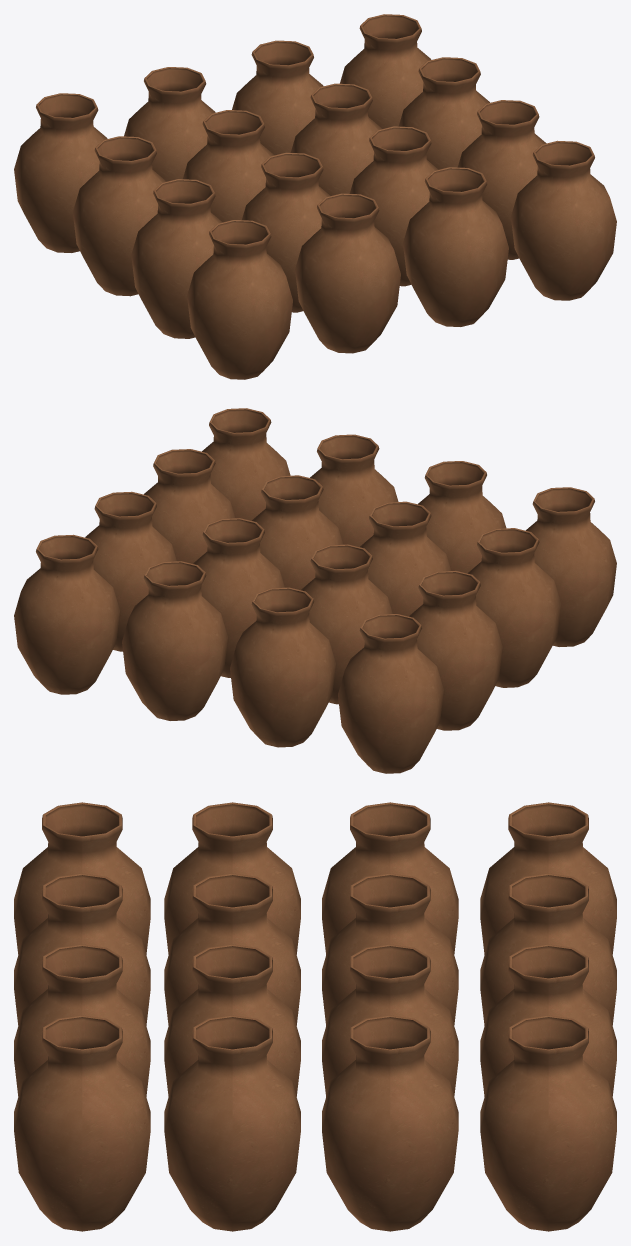
The model's file is PotteryJar3_Group.fbx.
The picture shows the model from 3 angles, top to bottom: view 1: azimuth 30°, elevation 25°; view 2: azimuth 150°, elevation 25°; view 3: azimuth 270°, elevation 25°; orthographic projection. The views are drawn at different scales.
Parts seen in each view (by area): view 1: PotteryJar3_13, PotteryJar3_14, PotteryJar3_15, PotteryJar3_12, PotteryJar3_, PotteryJar3_7, PotteryJar3_11, PotteryJar3_8, PotteryJar3_10, PotteryJar3_9, PotteryJar3_2, PotteryJar3_3 (+4 smaller); view 2: PotteryJar3_2, PotteryJar3_1, PotteryJar3_, PotteryJar3_3, PotteryJar3_7, PotteryJar3_11, PotteryJar3_15, PotteryJar3_6, PotteryJar3_5, PotteryJar3_4, PotteryJar3_10, PotteryJar3_9 (+4 smaller); view 3: PotteryJar3_3, PotteryJar3_12, PotteryJar3_8, PotteryJar3_4, PotteryJar3_11, PotteryJar3_15, PotteryJar3_, PotteryJar3_2, PotteryJar3_13, PotteryJar3_1, PotteryJar3_9, PotteryJar3_10 (+4 smaller).
Boxes of the visible parts, box(x1,y1,x2,y2) form: PotteryJar3_13: box(403, 167, 508, 326); PotteryJar3_14: box(295, 193, 400, 353); PotteryJar3_15: box(187, 220, 292, 379); PotteryJar3_12: box(511, 140, 616, 300); PotteryJar3_: box(14, 93, 107, 252); PotteryJar3_7: box(72, 136, 166, 296); PotteryJar3_11: box(131, 179, 222, 338); PotteryJar3_8: box(457, 100, 546, 259); PotteryJar3_10: box(242, 152, 330, 312); PotteryJar3_9: box(349, 126, 438, 286); PotteryJar3_2: box(232, 40, 323, 155); PotteryJar3_3: box(340, 14, 431, 128); PotteryJar3_2: box(122, 561, 227, 720); PotteryJar3_1: box(230, 587, 335, 747); PotteryJar3_: box(338, 614, 443, 773); PotteryJar3_3: box(14, 534, 119, 694); PotteryJar3_7: box(409, 570, 502, 730); PotteryJar3_11: box(467, 528, 561, 687); PotteryJar3_15: box(526, 487, 616, 646); PotteryJar3_6: box(301, 544, 392, 704); PotteryJar3_5: box(193, 518, 284, 677); PotteryJar3_4: box(85, 491, 176, 651); PotteryJar3_10: box(360, 501, 450, 616); PotteryJar3_9: box(252, 475, 343, 590); PotteryJar3_3: box(480, 1015, 616, 1231); PotteryJar3_12: box(14, 1015, 150, 1231); PotteryJar3_8: box(164, 1015, 300, 1231); PotteryJar3_4: box(322, 1015, 458, 1231); PotteryJar3_11: box(164, 802, 300, 954); PotteryJar3_15: box(14, 802, 150, 954); PotteryJar3_: box(480, 802, 616, 954); PotteryJar3_2: box(480, 944, 616, 1096); PotteryJar3_13: box(14, 944, 150, 1096); PotteryJar3_1: box(480, 873, 616, 1025); PotteryJar3_9: box(164, 944, 300, 1096); PotteryJar3_10: box(164, 873, 300, 1025).
Size of the model in its own units: 47.5 by 15.08 by 44.23.
